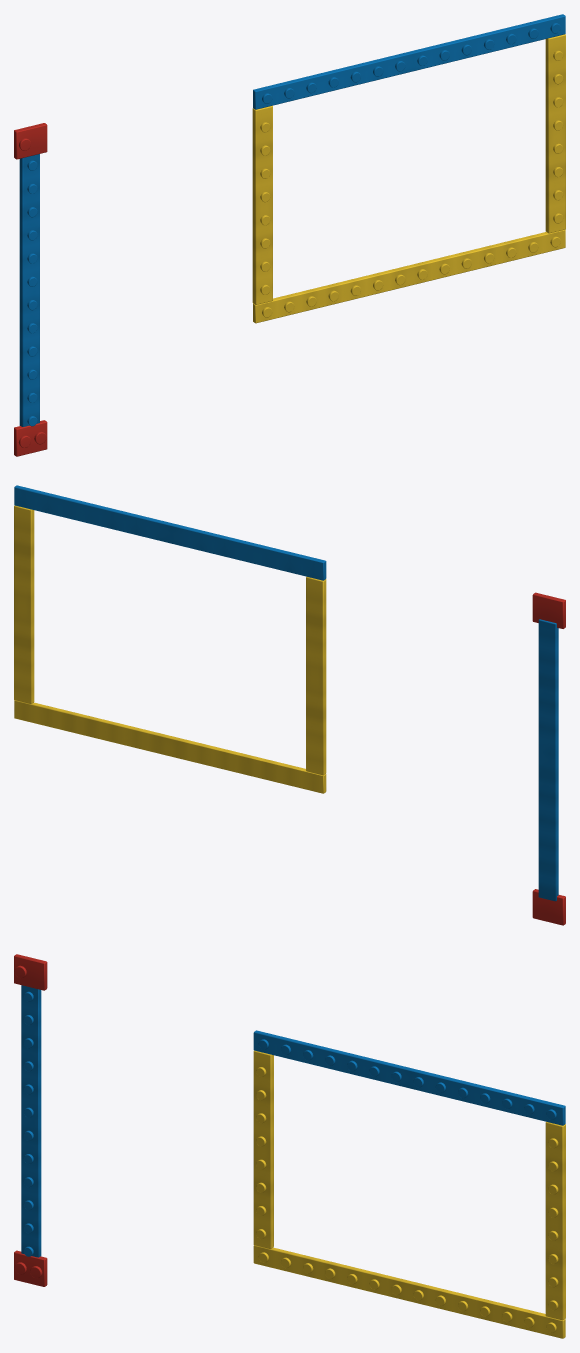
The model's file is 11-toy-brick-trims-and-join-tape-1.fbx.
3 views of the same model, one above another, from view 1: azimuth 30°, elevation 25°; view 2: azimuth 150°, elevation 25°; view 3: azimuth 330°, elevation 25° (orthographic).
Visible parts, largest first — view 1: toy-brick-trims-and-join-tape-1; view 2: toy-brick-trims-and-join-tape-1; view 3: toy-brick-trims-and-join-tape-1.
Boxes of the visible parts, x1=… form: toy-brick-trims-and-join-tape-1: x1=14, y1=14, x2=565, y2=456; toy-brick-trims-and-join-tape-1: x1=14, y1=485, x2=565, y2=925; toy-brick-trims-and-join-tape-1: x1=14, y1=954, x2=565, y2=1338.
Size of the model in its own units: 12400 by 7000 by 208.
1 material, 1 textured.
